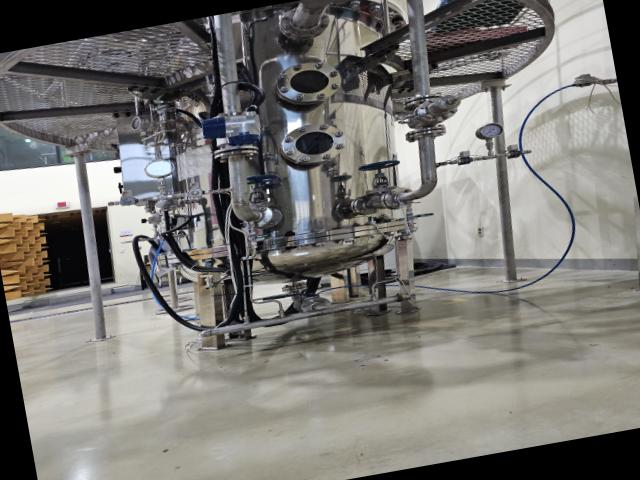Flange: (272, 56, 344, 108), (278, 118, 348, 168)
Flush Ring: (276, 2, 332, 44), (232, 201, 274, 231), (378, 184, 416, 212), (212, 142, 260, 163), (402, 91, 446, 111), (404, 123, 446, 142), (351, 192, 382, 216), (300, 294, 332, 316)
GasRegulator: (128, 98, 199, 157)
Nuts: (113, 194, 142, 208), (181, 186, 209, 200), (454, 154, 476, 166), (504, 148, 524, 159)
Piston Valve: (356, 157, 406, 196), (245, 171, 282, 211)
Pressure Gage: (143, 156, 179, 198), (474, 120, 506, 156)
